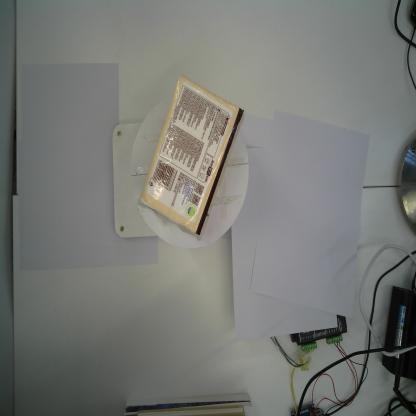Tissue: (140, 74, 245, 238)
